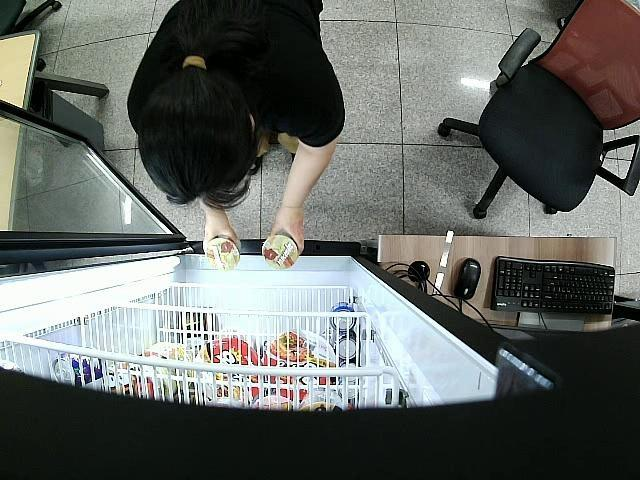04_chapagetti_S: (263, 236, 300, 273), (202, 236, 242, 270)
